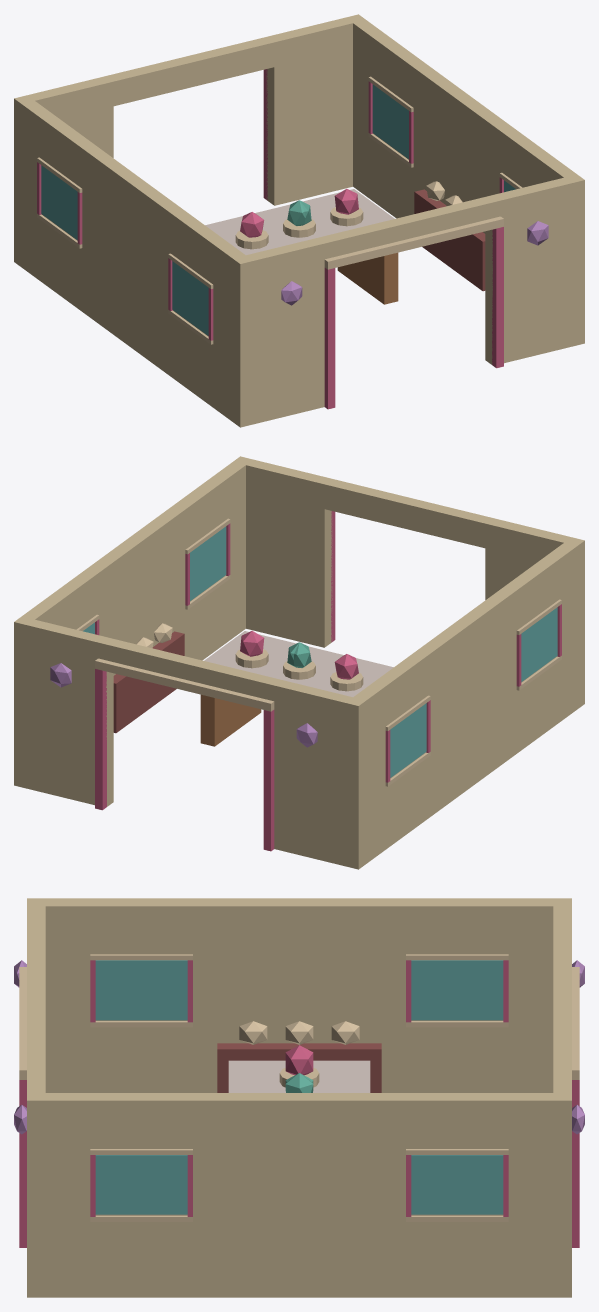
File: Candyland_SweetShopShell_Showcase.glb
3 views of the same model, one above another, from view 1: azimuth 30°, elevation 25°; view 2: azimuth 150°, elevation 25°; view 3: azimuth 270°, elevation 25° (orthographic). The views are drawn at different scales.
Parts seen in each view (by area): view 1: Candyland_SweetShopShell_Showcase; view 2: Candyland_SweetShopShell_Showcase; view 3: Candyland_SweetShopShell_Showcase.
Boxes of the visible parts, x1,y1,x2,y2 form: Candyland_SweetShopShell_Showcase: [14, 14, 584, 427]; Candyland_SweetShopShell_Showcase: [14, 456, 584, 869]; Candyland_SweetShopShell_Showcase: [14, 898, 584, 1297].
Bounding box in the file's own units: 7.41 × 3.3 × 8.68.
